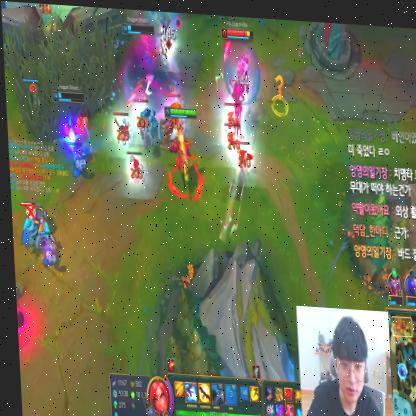streamer: (293, 308, 390, 416)
